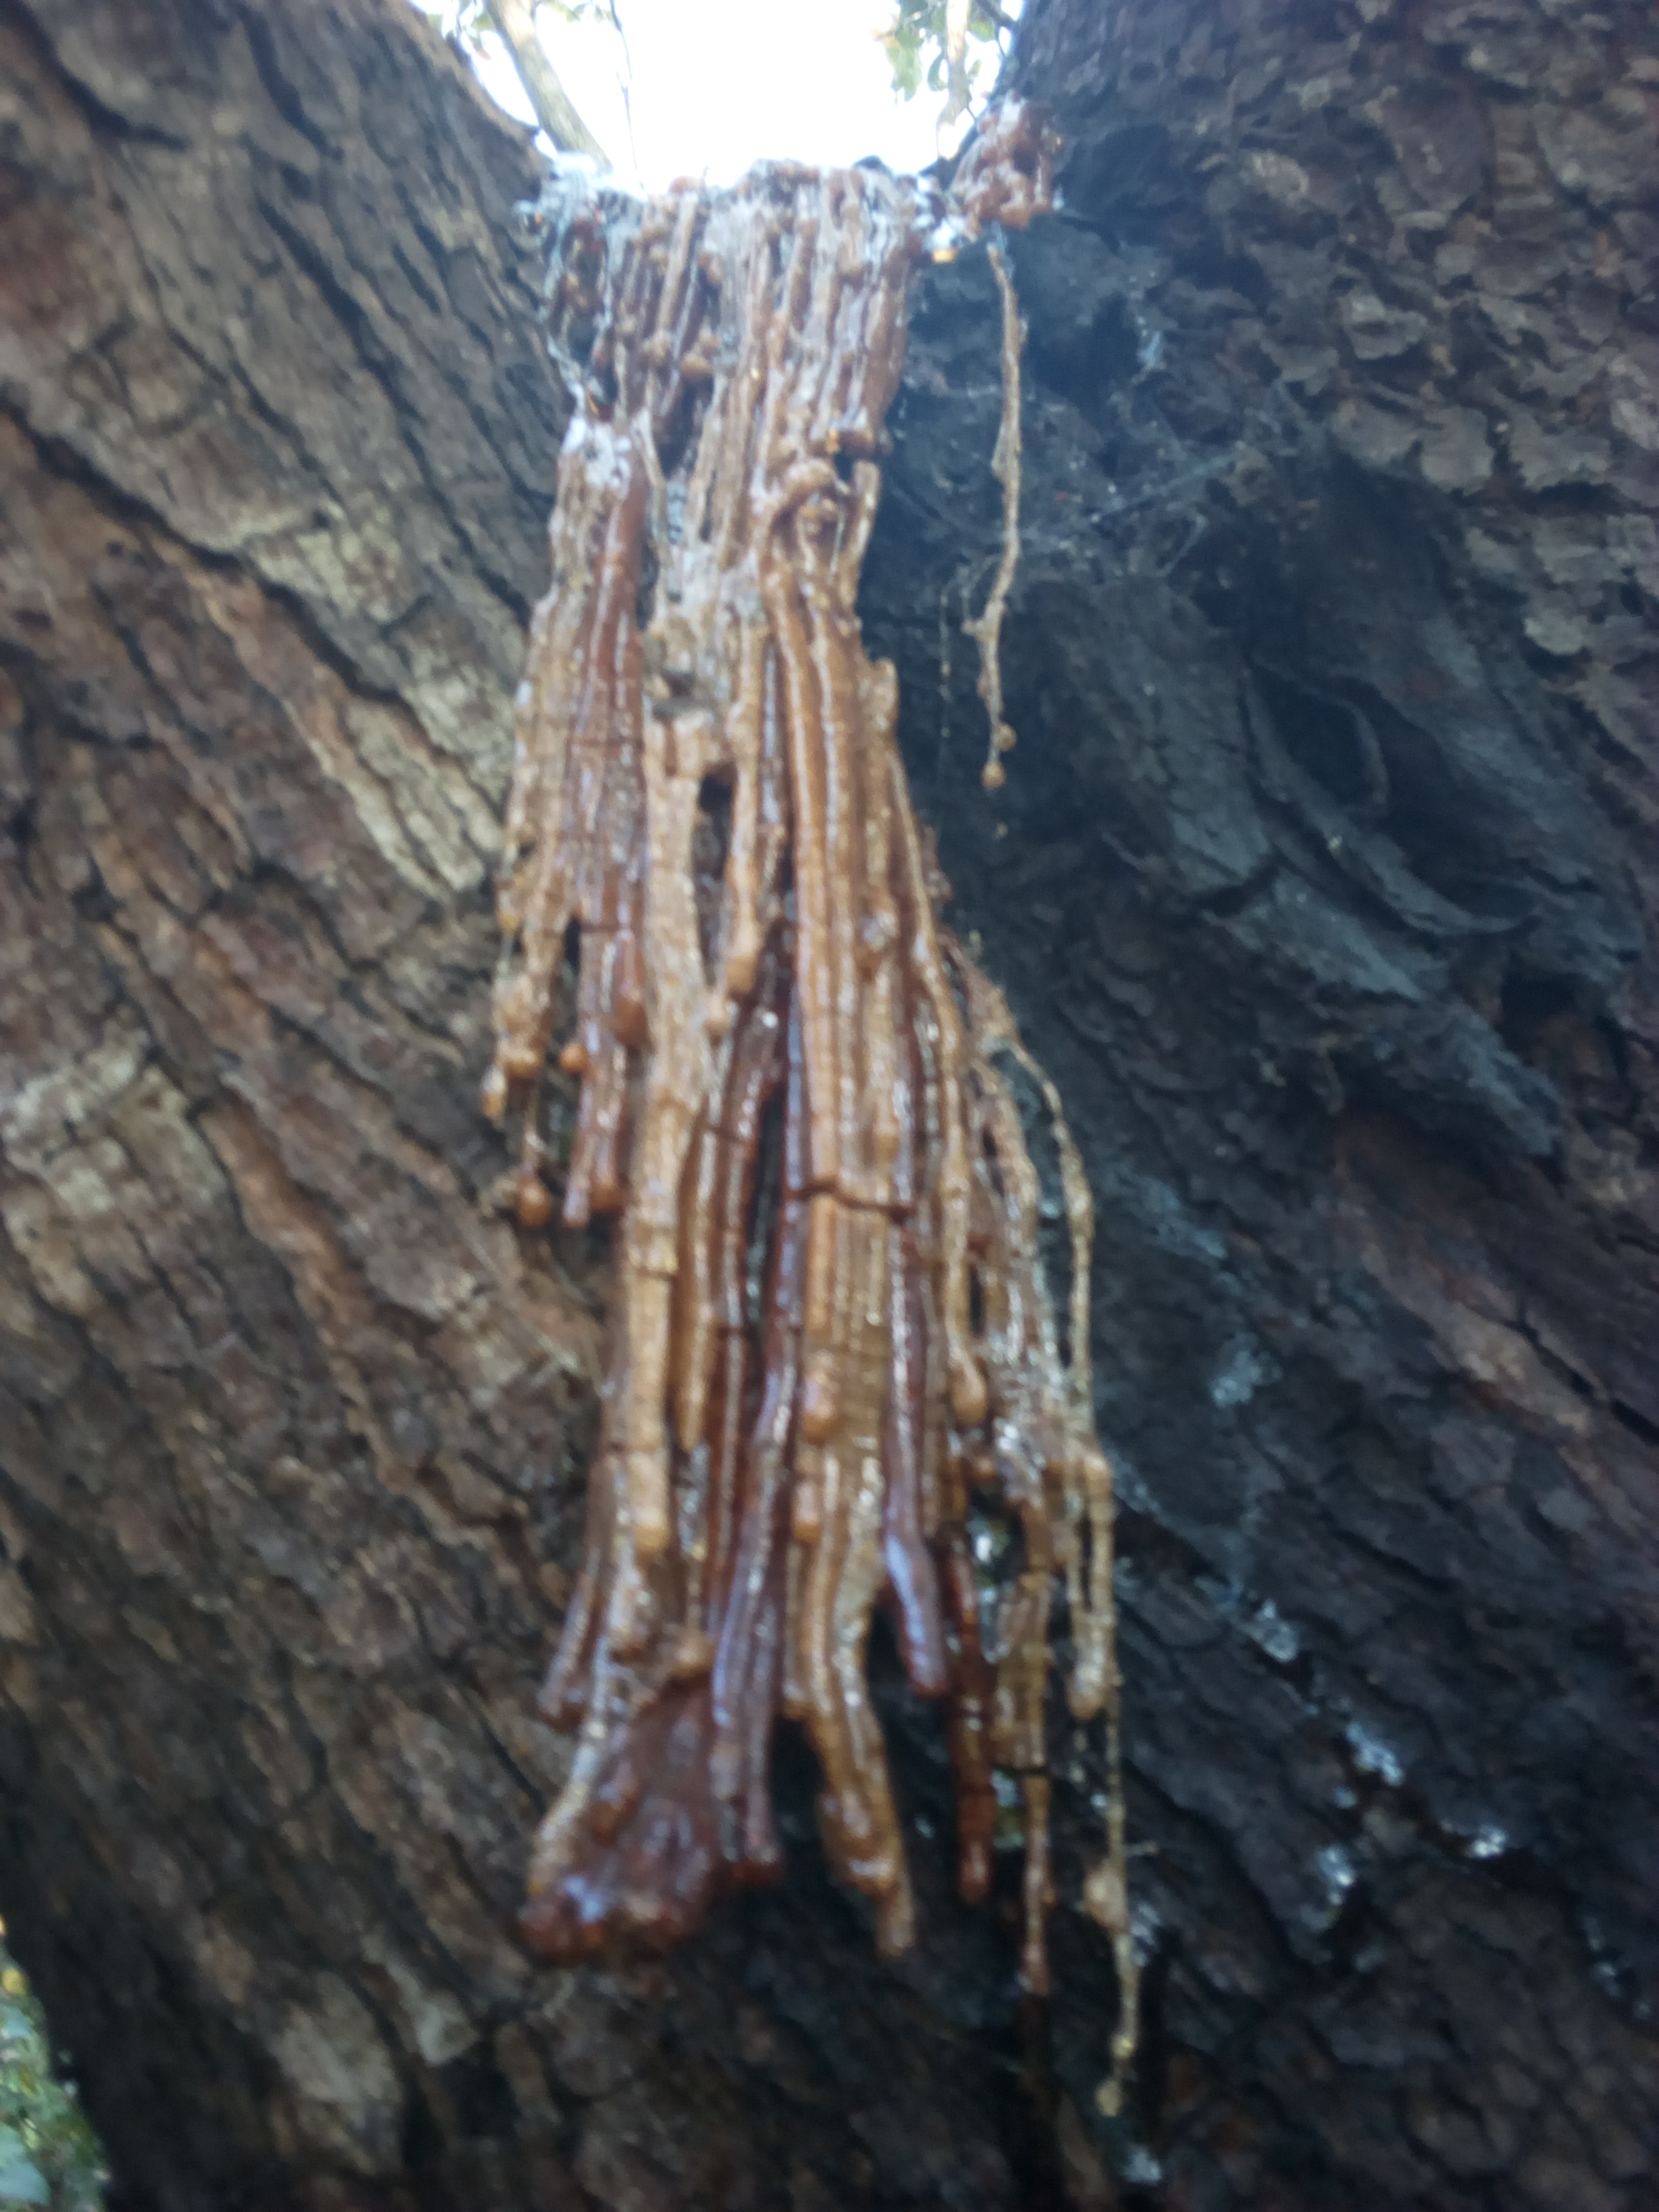Gommose: (535, 141, 1138, 1970), (1175, 1400, 1612, 1977)
